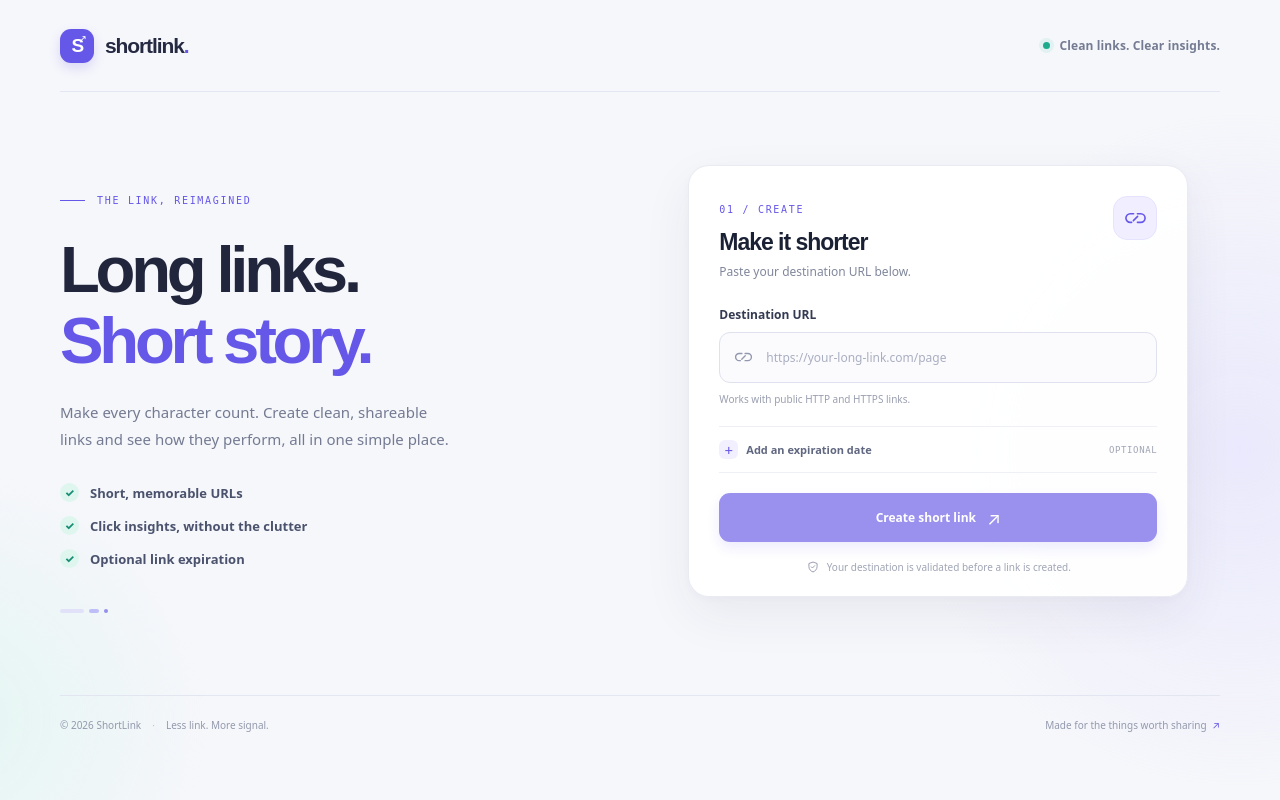
Test: HomePage › shows API errors without claiming the link was created
The width and height of the screenshot is (1280, 800).
Type "https://example.com/path" into the field labelled "Destination URL" at (953, 358), box [764,348,1142,367]
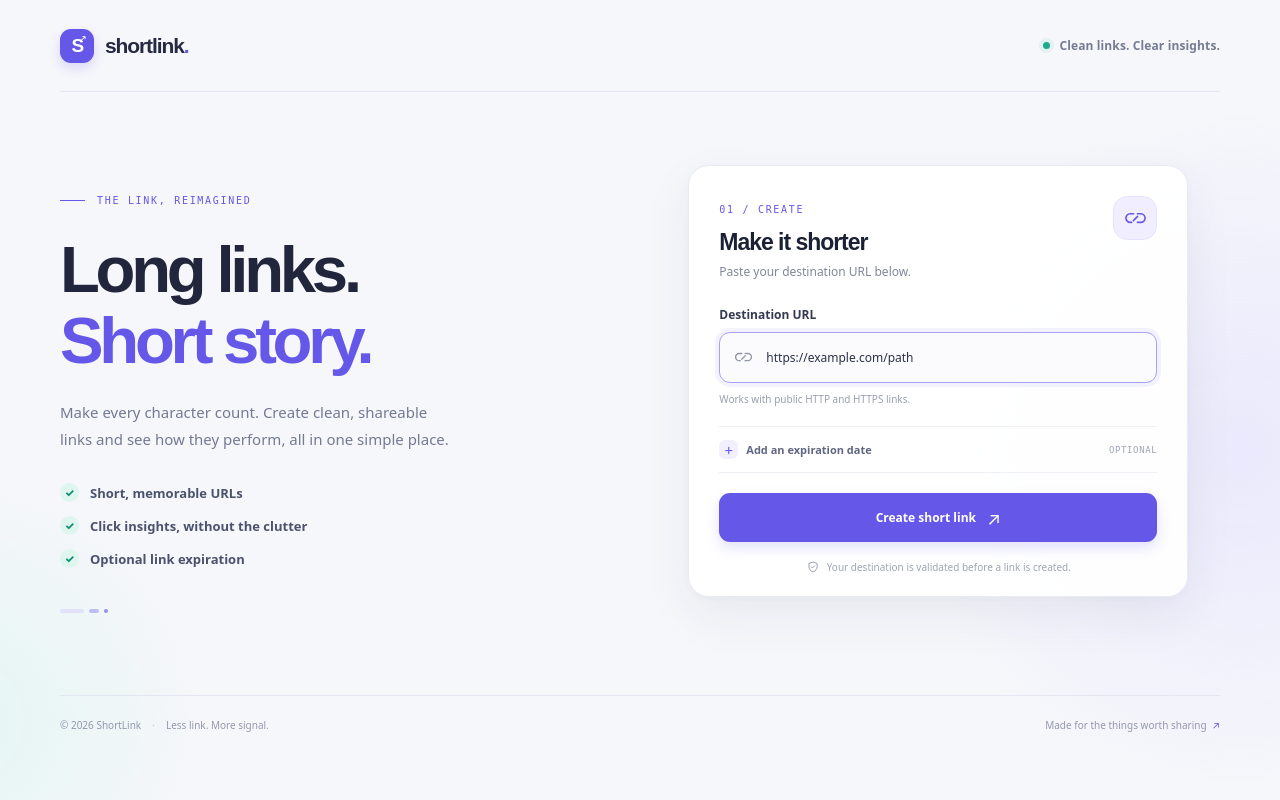
Click the button "Create short link ↗" at (938, 518), box [719,493,1157,542]
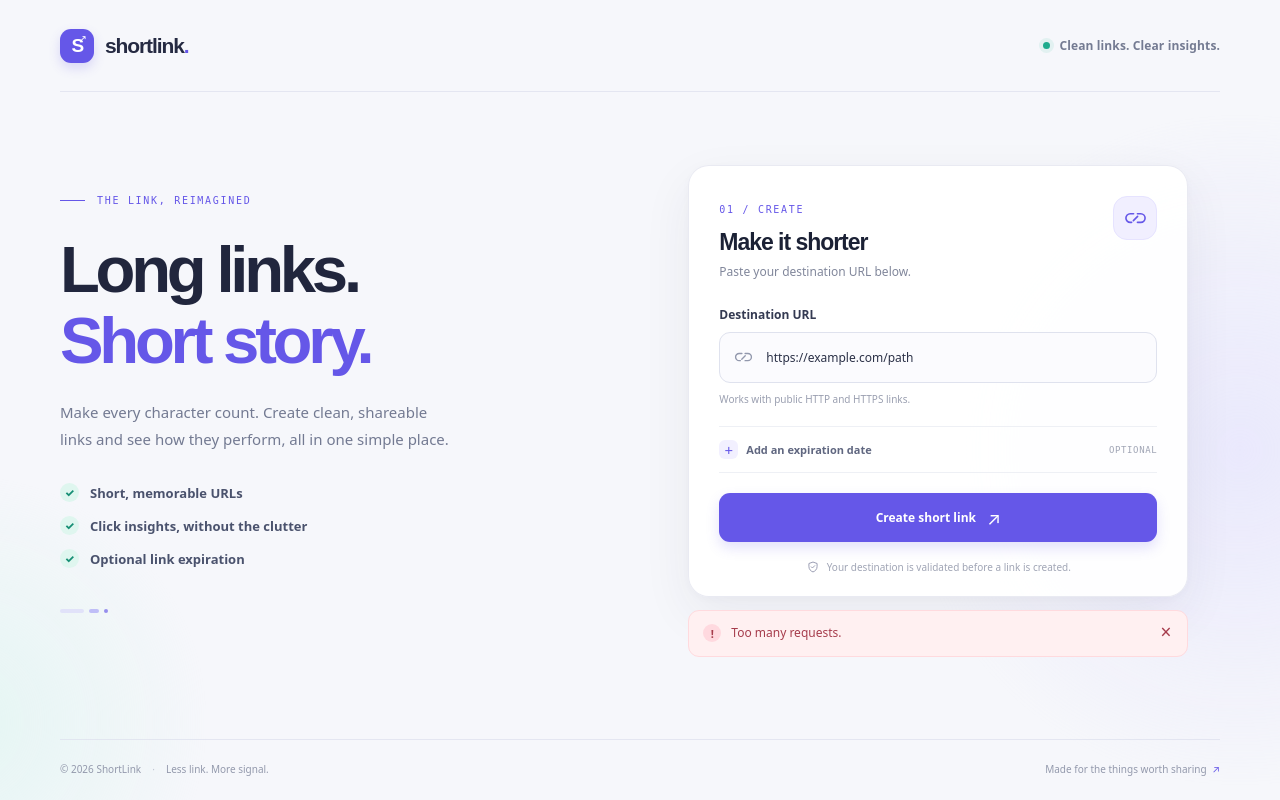
Now the message shows "Too many requests.", box [731,624,842,641]
